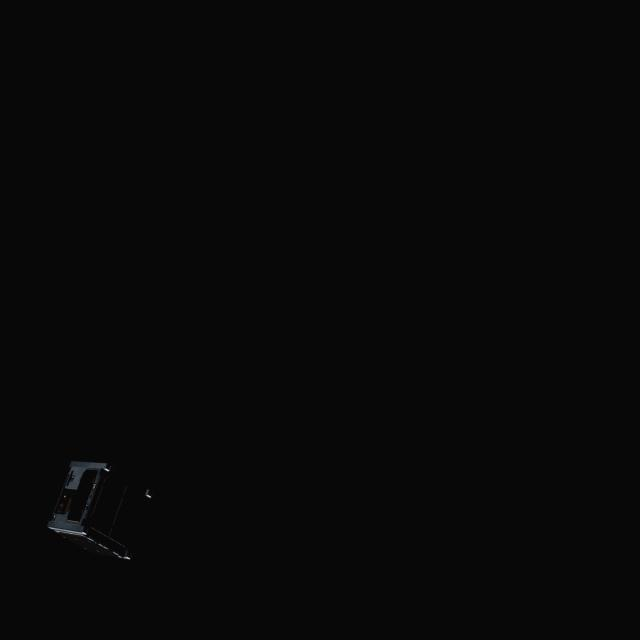satellite: (38, 454, 154, 568)
